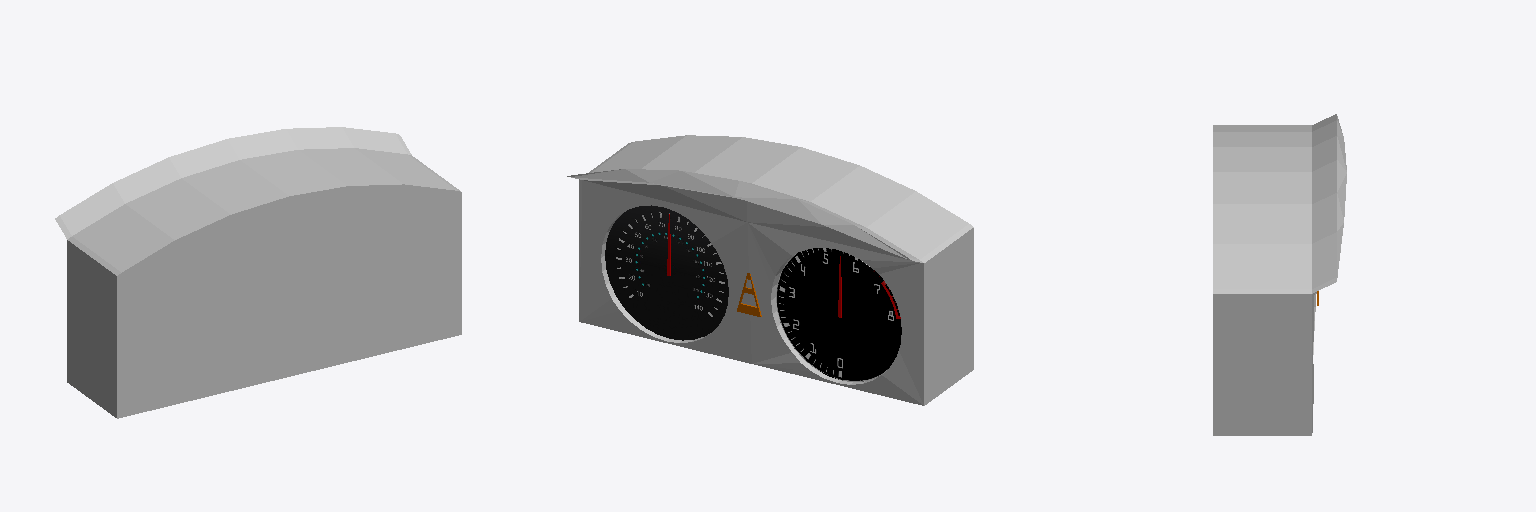
3 views of the same model, side by side, from view 1: azimuth 30°, elevation 25°; view 2: azimuth 150°, elevation 25°; view 3: azimuth 270°, elevation 25° (orthographic).
Visible parts, largest first — view 1: Armaturka_Material.001; view 2: Armaturka_Material.001, Armaturka_RPMGauge, Armaturka_Speedmeter; view 3: Armaturka_Material.001.
Boxes of the visible parts, box(x1,y1,x2,y2) form: Armaturka_Material.001: box(55, 127, 461, 418); Armaturka_Material.001: box(567, 135, 973, 405); Armaturka_RPMGauge: box(776, 248, 901, 381); Armaturka_Speedmeter: box(605, 205, 728, 340); Armaturka_Material.001: box(1213, 114, 1346, 435).
Size of the model in its own units: 0.8 by 0.4264 by 0.27.
5 materials, 2 textured.